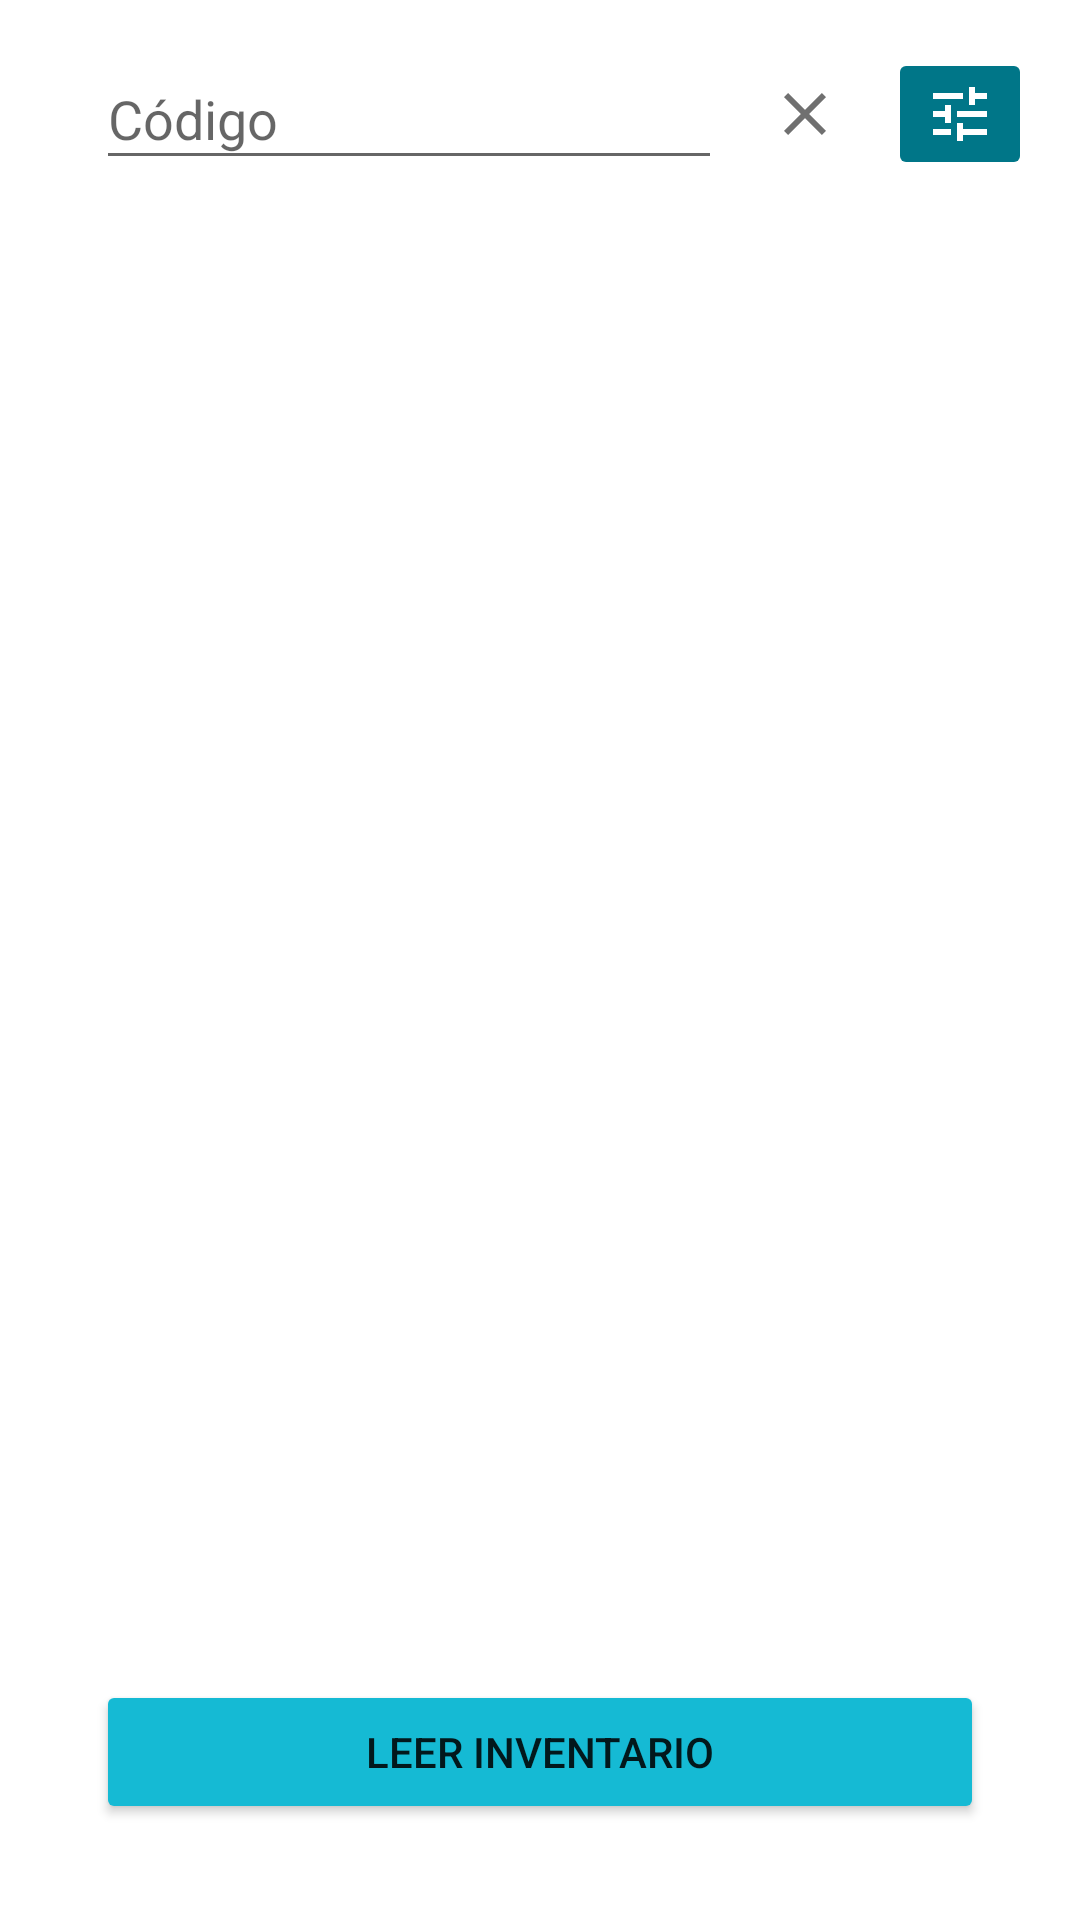

Icon click points for this 1080 × 1920 phone screenshot, format (x,y):
cancel: (805,114)
